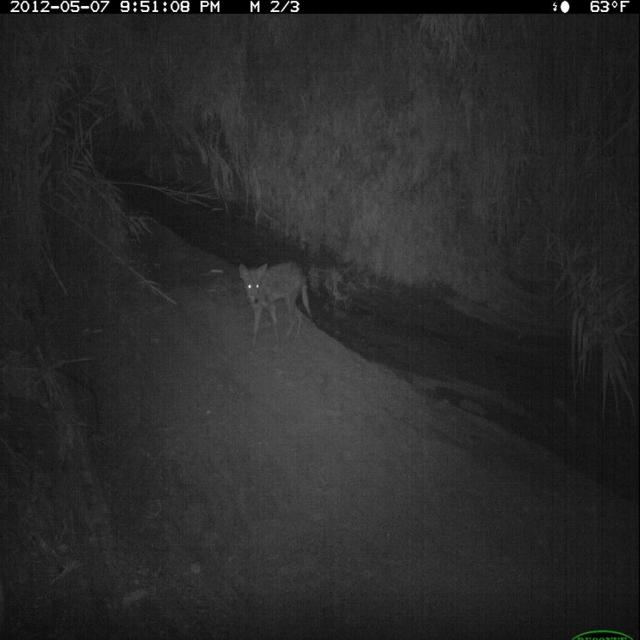coyote: (235, 257, 320, 356)
